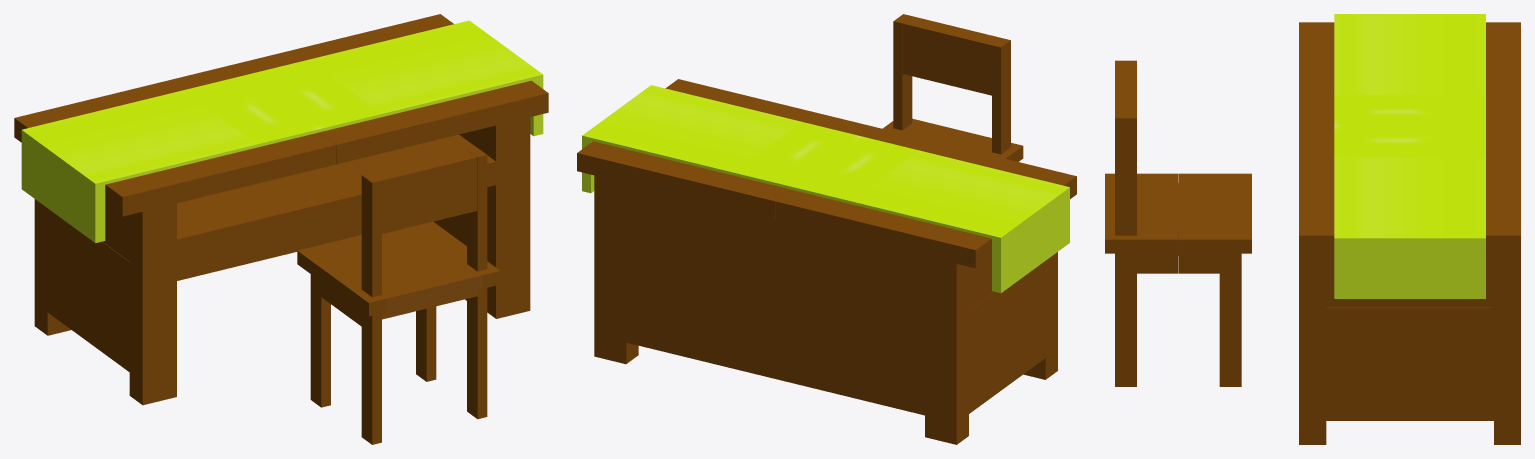
The model's file is Meja dan Kursi Guru.fbx.
3 renders of one model, left to right at view 1: azimuth 30°, elevation 25°; view 2: azimuth 150°, elevation 25°; view 3: azimuth 270°, elevation 25°, orthographic. The views are drawn at different scales.
Parts seen in each view (by area): view 1: Kursi.001; view 2: Kursi.001; view 3: Kursi.001.
Part boxes in pixels (bbox=[...]): Kursi.001: bbox=[14, 14, 548, 444]; Kursi.001: bbox=[577, 14, 1076, 444]; Kursi.001: bbox=[1105, 14, 1520, 444].
Bounding box in the file's own units: 700 × 391 × 548.
Materials: 1 (1 with a texture image).
